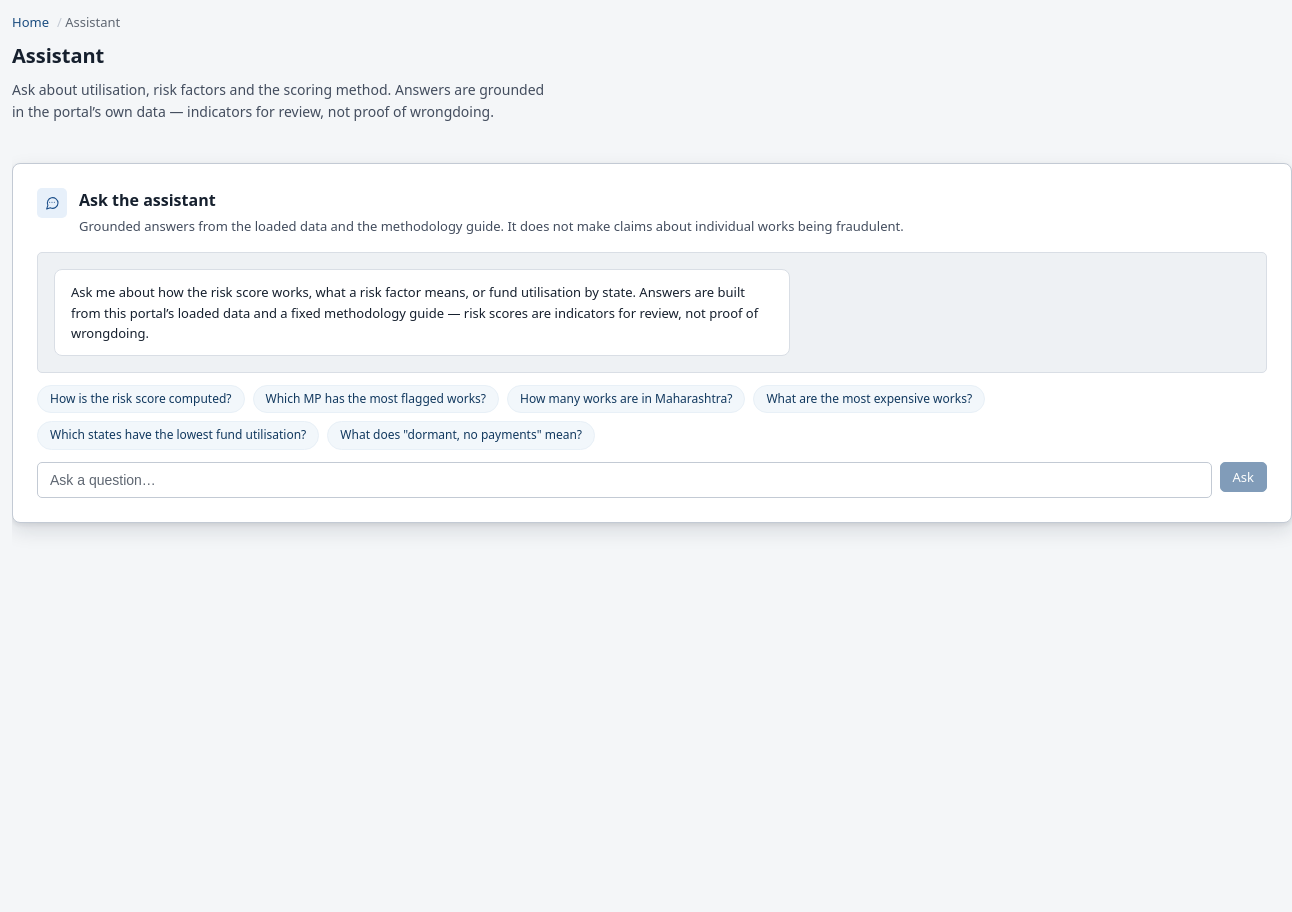
AssistantPage › answers a typed question
Type "how many works are flagged?" into the field named "Your question".
click(624, 480); type("how many works are flagged?")  # box [37,462,1212,498]
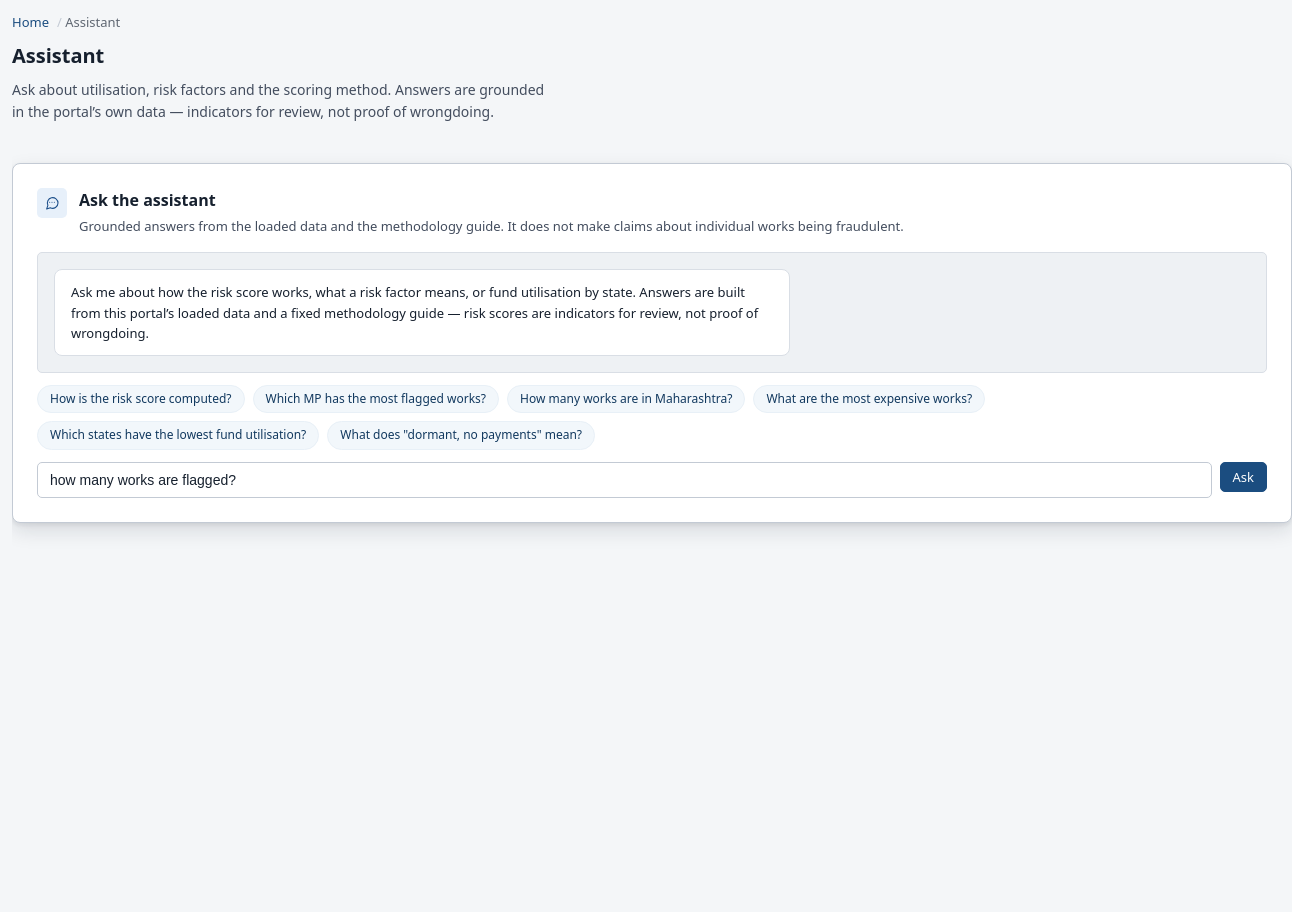
Click the button "Ask".
click(1243, 477)  # box [1220,462,1267,492]
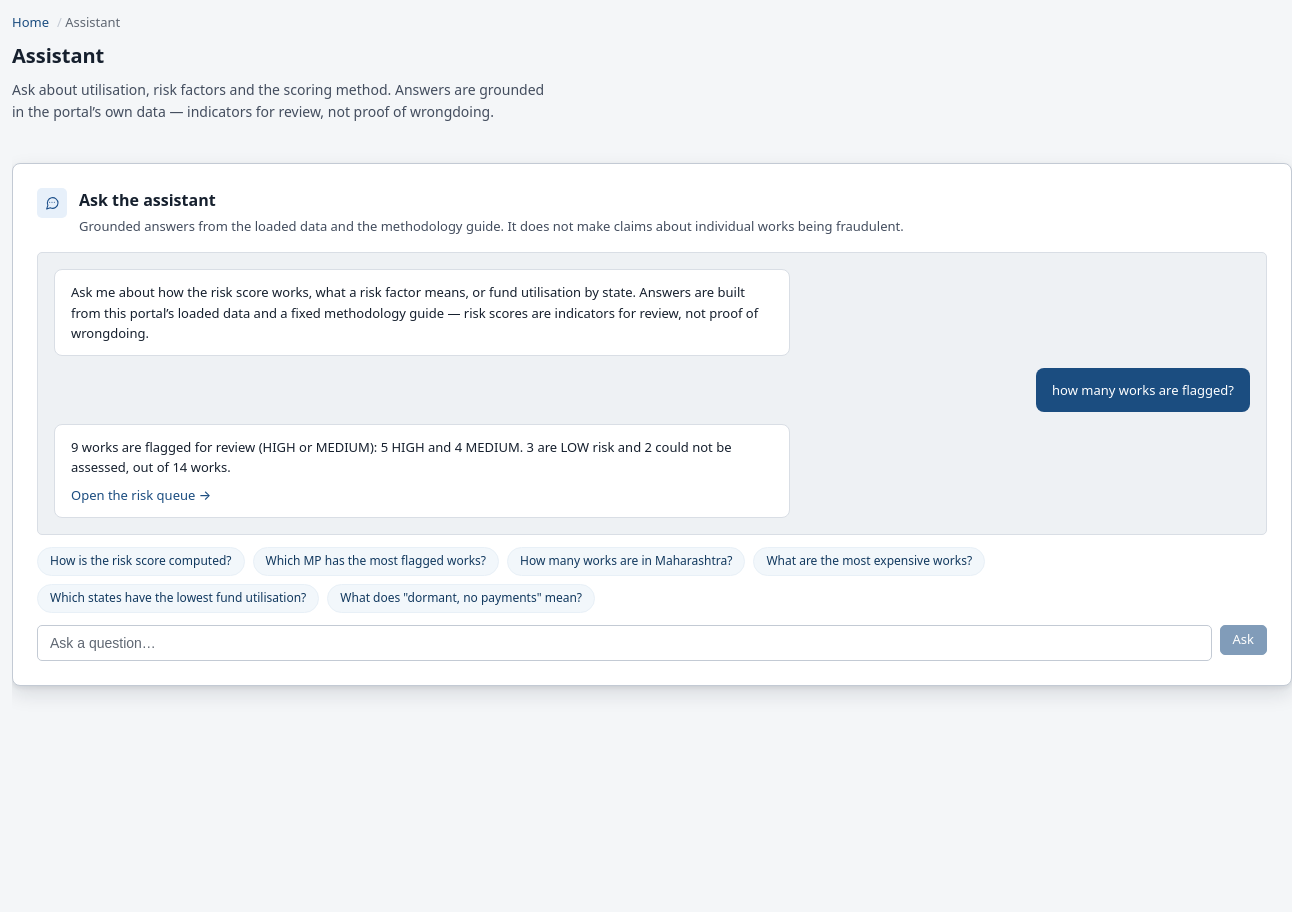
Check: the text "works are flagged for review" is shown, box [71,438,735,476]
